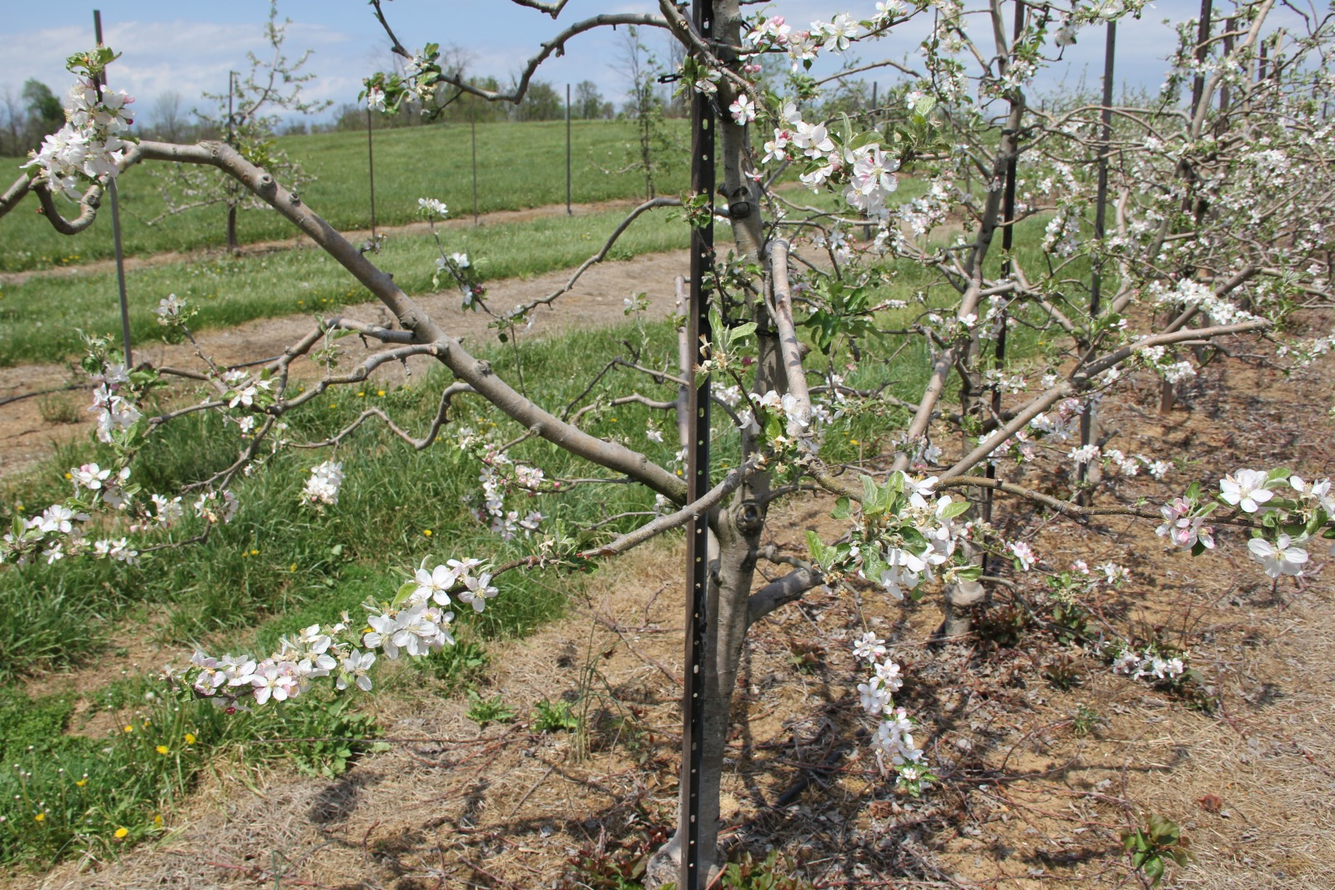flower: (365, 557, 500, 660), (36, 78, 137, 204), (193, 637, 337, 706), (846, 143, 928, 237), (879, 518, 958, 601), (1150, 279, 1239, 325), (1156, 495, 1216, 552), (748, 15, 819, 62), (779, 102, 834, 161), (479, 464, 521, 541), (1248, 532, 1311, 581), (879, 712, 929, 765), (858, 660, 904, 717), (1111, 646, 1183, 681), (1220, 470, 1274, 513), (97, 400, 144, 444), (1290, 476, 1335, 521), (810, 13, 859, 52), (1052, 205, 1083, 259), (901, 470, 945, 508), (309, 461, 345, 506), (756, 390, 803, 421), (341, 650, 376, 691), (33, 505, 80, 533), (729, 94, 757, 140), (1031, 413, 1073, 442), (71, 463, 111, 490), (853, 631, 886, 663), (829, 231, 856, 269), (762, 128, 789, 164), (866, 0, 907, 23), (1045, 204, 1069, 243), (1010, 541, 1040, 572), (800, 164, 839, 187), (110, 538, 140, 566), (152, 495, 184, 521), (1161, 361, 1197, 384), (516, 465, 548, 489), (1112, 450, 1140, 475), (738, 405, 761, 434), (103, 486, 130, 510), (229, 387, 258, 409), (101, 363, 130, 384), (867, 229, 890, 255), (1096, 562, 1123, 584), (997, 72, 1025, 92), (1072, 445, 1101, 464), (102, 92, 128, 111), (419, 198, 449, 214), (1055, 28, 1078, 48), (519, 511, 542, 531), (924, 440, 943, 464), (43, 544, 64, 565), (93, 384, 113, 406), (447, 252, 470, 268), (904, 92, 924, 110), (937, 495, 952, 515), (307, 625, 321, 643), (118, 467, 131, 486), (912, 198, 929, 212), (240, 416, 254, 433), (903, 767, 918, 782), (1151, 461, 1166, 474), (436, 255, 446, 274), (336, 676, 349, 690), (892, 237, 909, 247), (967, 314, 978, 329), (23, 519, 32, 529)
